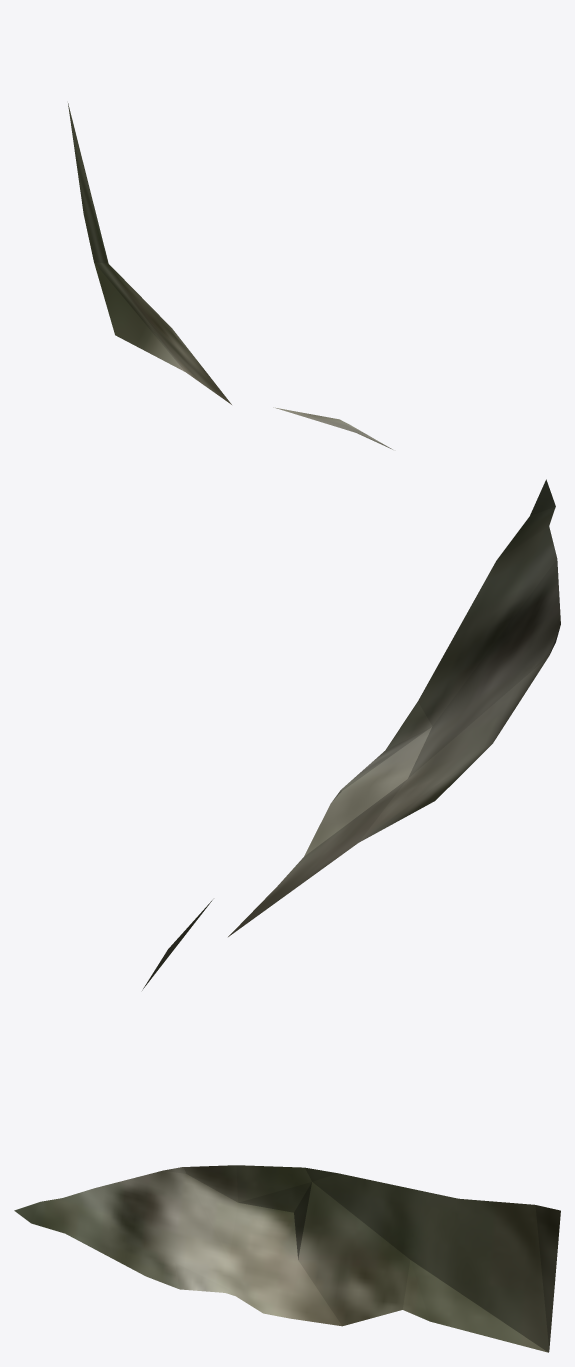
The picture shows the model from 3 angles, top to bottom: view 1: azimuth 30°, elevation 25°; view 2: azimuth 150°, elevation 25°; view 3: azimuth 270°, elevation 25°; orthographic projection. The views are drawn at different scales.
Size of the model in its own units: 0.2692 by 0.3928 by 1.37.
Materials: 1 (1 with a texture image).
